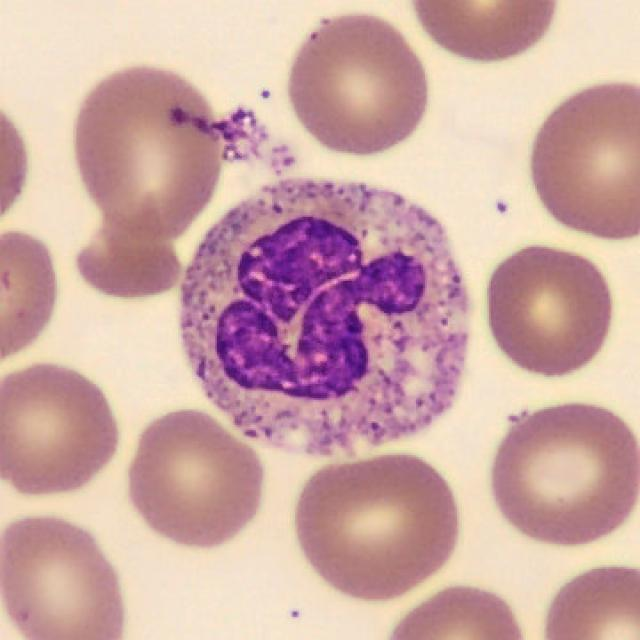Neutrofilo segmentado: (178, 180, 469, 460)
